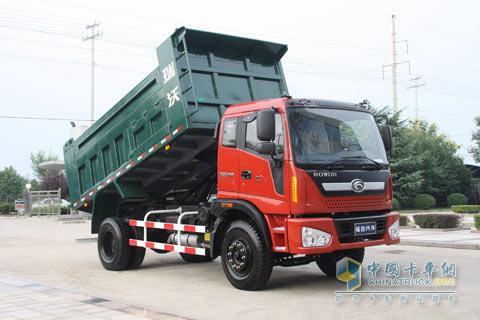truck: (42, 25, 389, 293)
